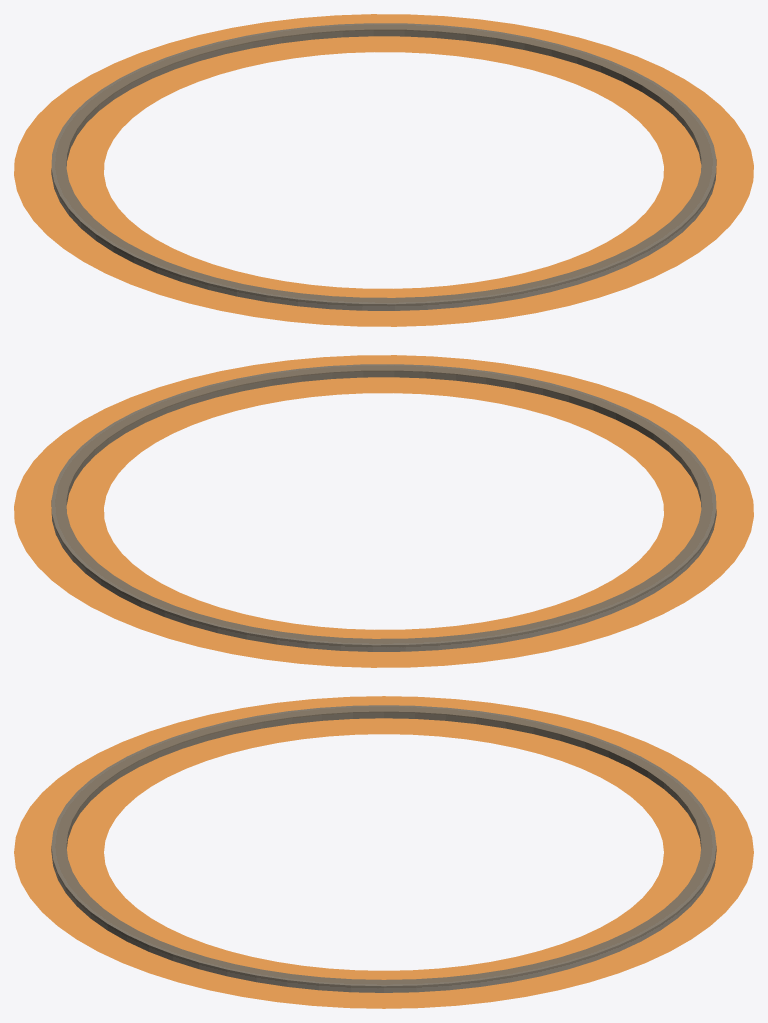
The model's file is energy_ring.obj.
3 renders of one model, top to bottom at view 1: azimuth 30°, elevation 25°; view 2: azimuth 150°, elevation 25°; view 3: azimuth 270°, elevation 25°, orthographic.
Size of the model in its own units: 14.8 by 0.3 by 14.8.
